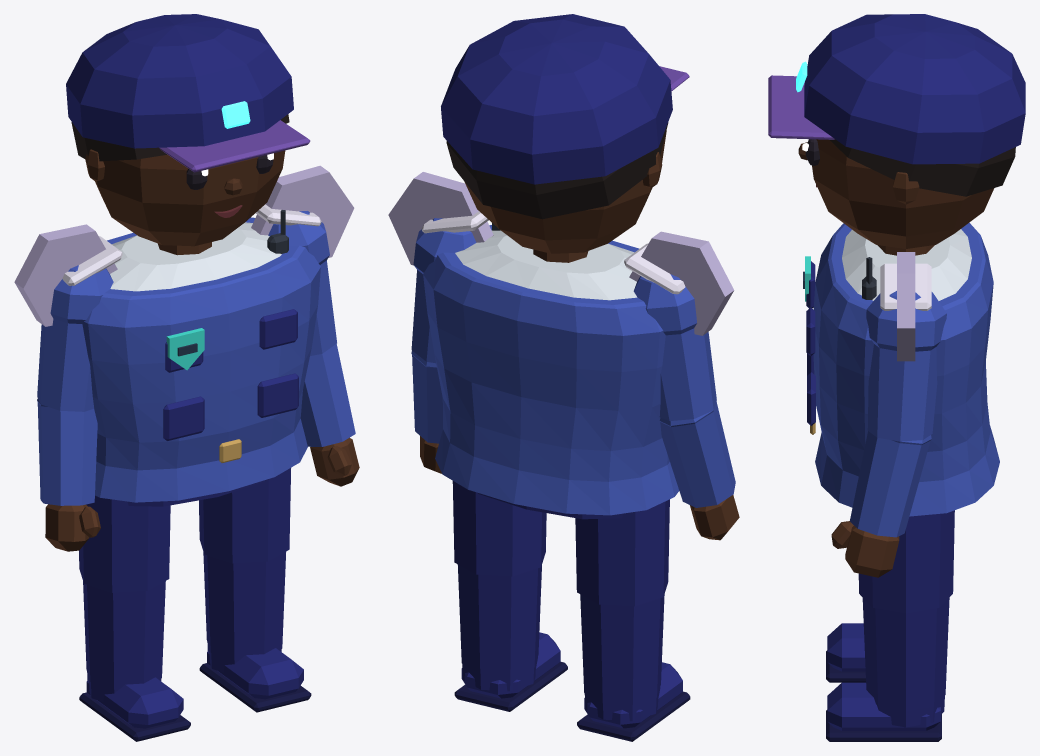
Rendered from sic_pri.glb.
3 views of the same model, side by side, from view 1: azimuth 30°, elevation 25°; view 2: azimuth 150°, elevation 25°; view 3: azimuth 270°, elevation 25° (orthographic).
Parts seen in each view (by area): view 1: jacke, kopfbedeckung, bein_r, bein_l, arm_r, kopf, schulterpaneele, arm_l, torso, taschen, schuh_r, schuh_l (+7 smaller); view 2: jacke, kopfbedeckung, bein_r, bein_l, arm_r, schulterpaneele, torso, haare, kopf, arm_l, schuh_l, schuh_r (+2 smaller); view 3: kopfbedeckung, jacke, bein_l, arm_l, kopf, schuh_l, torso, haare, hand_l, schuh_r, schulterpaneele, schulterklappen (+3 smaller).
Part boxes in pixels (x1,y1,x2,y2): jacke: (82, 217, 320, 502); kopfbedeckung: (66, 14, 310, 172); bein_r: (79, 495, 170, 689); bein_l: (199, 468, 290, 660); arm_r: (37, 265, 113, 505); kopf: (85, 149, 285, 246); schulterpaneele: (14, 165, 354, 326); arm_l: (268, 211, 355, 446); torso: (110, 222, 281, 291); taschen: (163, 309, 298, 440); schuh_r: (79, 672, 190, 741); schuh_l: (199, 642, 311, 712); jacke: (423, 225, 679, 515); kopfbedeckung: (441, 14, 689, 184); bein_r: (575, 499, 669, 704); bein_l: (452, 481, 546, 675); arm_r: (633, 274, 735, 507); schulterpaneele: (388, 172, 734, 335); torso: (455, 230, 637, 300); haare: (446, 122, 668, 219); kopf: (464, 130, 666, 253); arm_l: (411, 218, 476, 443); schuh_l: (454, 632, 567, 711); schuh_r: (577, 662, 690, 741); kopfbedeckung: (768, 14, 1025, 164); jacke: (813, 222, 999, 516); bein_l: (858, 510, 954, 711); arm_l: (850, 291, 946, 537); kopf: (812, 139, 994, 248); schuh_l: (826, 682, 944, 741); torso: (842, 229, 971, 300); haare: (830, 139, 1015, 196); hand_l: (831, 521, 899, 577); schuh_r: (826, 623, 865, 682); schulterpaneele: (897, 252, 915, 361); schulterklappen: (880, 263, 931, 310).
Size of the model in its own units: 0.0135 by 0.0259 by 0.00903.
